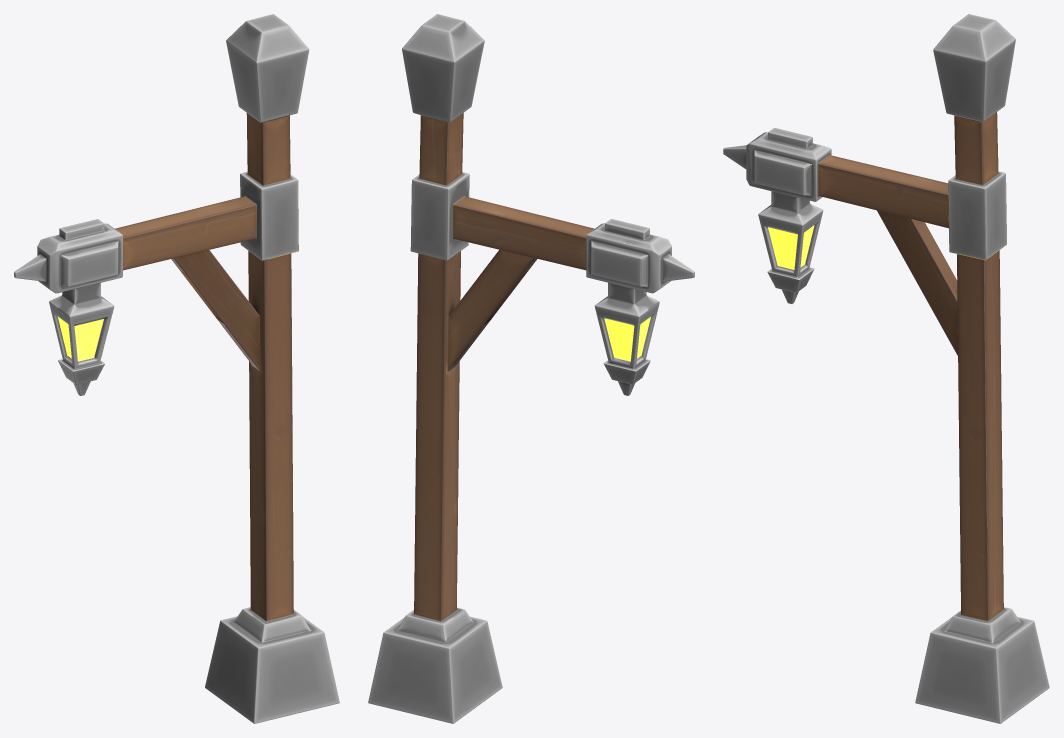
File: Lamp.fbx
The picture shows the model from 3 angles, left to right: view 1: azimuth 30°, elevation 25°; view 2: azimuth 150°, elevation 25°; view 3: azimuth 330°, elevation 25°; orthographic projection.
Parts seen in each view (by area): view 1: Lamp; view 2: Lamp; view 3: Lamp.
Boxes of the visible parts, x1,y1,x2,y2 form: Lamp: (14, 14, 339, 723); Lamp: (368, 14, 694, 723); Lamp: (723, 14, 1049, 723).
Size of the model in its own units: 198 by 424 by 56.46.
1 material, 1 textured.
